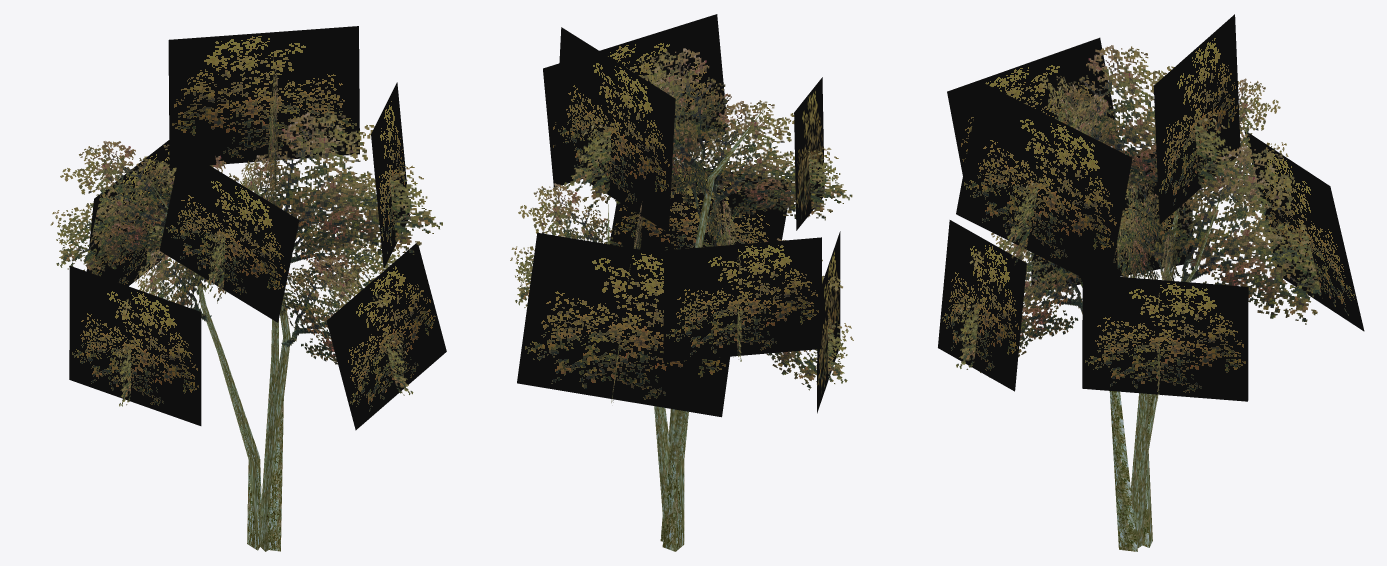
The model's file is stage-lake-p2-289.glb.
The picture shows the model from 3 angles, left to right: view 1: azimuth 30°, elevation 25°; view 2: azimuth 150°, elevation 25°; view 3: azimuth 270°, elevation 25°; orthographic projection. The views are drawn at different scales.
Size of the model in its own units: 17.34 by 21.41 by 17.07.
3 materials, 3 textured.
